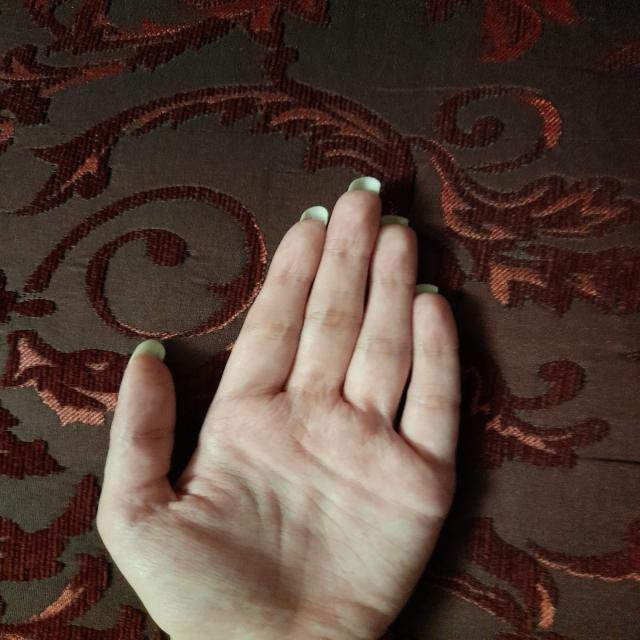Open Hand: (94, 182, 464, 640)
